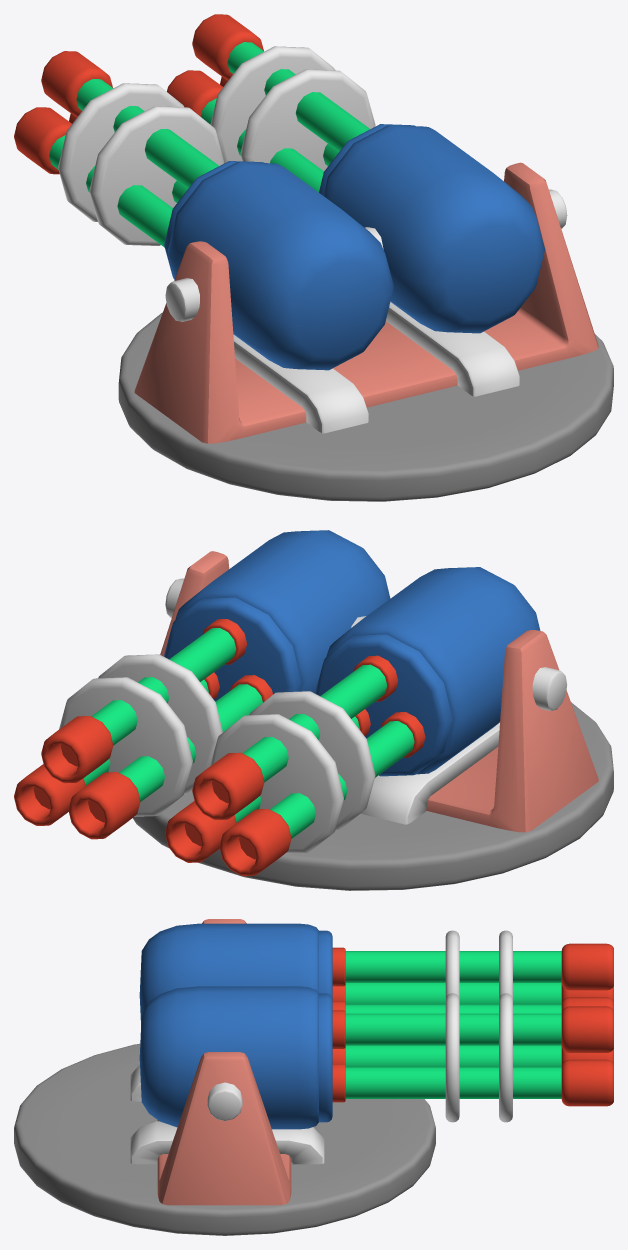
Rendered from Mini_2_part.fbx.
3 renders of one model, top to bottom at view 1: azimuth 30°, elevation 25°; view 2: azimuth 150°, elevation 25°; view 3: azimuth 270°, elevation 25°, orthographic. The views are drawn at different scales.
Visible parts, largest first — view 1: Weapon_01_1.003, Cube.001, back, back2, disc1, disc2, up1, up2, part2, part1, Cylinder.004, disc5; view 2: Weapon_01_1.003, up1, Cube.001, up2, back, back2, disc1, disc2, disc5, disc3, part2, Cylinder.004; view 3: Weapon_01_1.003, up2, back2, up1, Cube.001, back, disc2, part1, disc1, disc3, Cylinder.004, disc5.
Part boxes in pixels (box(x1,y1,x2,y2)): Weapon_01_1.003: box(118, 312, 613, 501); Cube.001: box(134, 162, 598, 443); back: box(167, 162, 393, 370); back2: box(323, 125, 544, 333); disc1: box(58, 83, 224, 245); disc2: box(210, 46, 375, 170); up1: box(14, 51, 218, 247); up2: box(167, 14, 370, 192); part2: box(233, 334, 368, 433); part1: box(386, 302, 519, 396); Cylinder.004: box(165, 189, 567, 321); disc5: box(164, 161, 264, 279); Weapon_01_1.003: box(133, 702, 613, 890); up1: box(165, 655, 425, 876); Cube.001: box(160, 551, 598, 832); up2: box(14, 619, 272, 839); back: box(326, 567, 540, 774); back2: box(175, 530, 390, 693); disc1: box(210, 691, 375, 853); disc2: box(59, 654, 222, 816); disc5: box(315, 634, 452, 776); disc3: box(164, 597, 301, 701); part2: box(361, 722, 499, 824); Cylinder.004: box(165, 578, 567, 710); Weapon_01_1.003: box(14, 1043, 435, 1235); up2: box(332, 1006, 613, 1106); back2: box(139, 986, 318, 1129); up1: box(332, 943, 613, 1013); Cube.001: box(157, 919, 291, 1205); back: box(139, 923, 318, 1024); disc2: box(445, 993, 512, 1122); part1: box(130, 1121, 324, 1164); disc1: box(445, 930, 512, 998); disc3: box(319, 993, 332, 1122); Cylinder.004: box(207, 1082, 242, 1120); disc5: box(319, 930, 332, 998).
Size of the model in its own units: 88.73 by 43.45 by 126.
